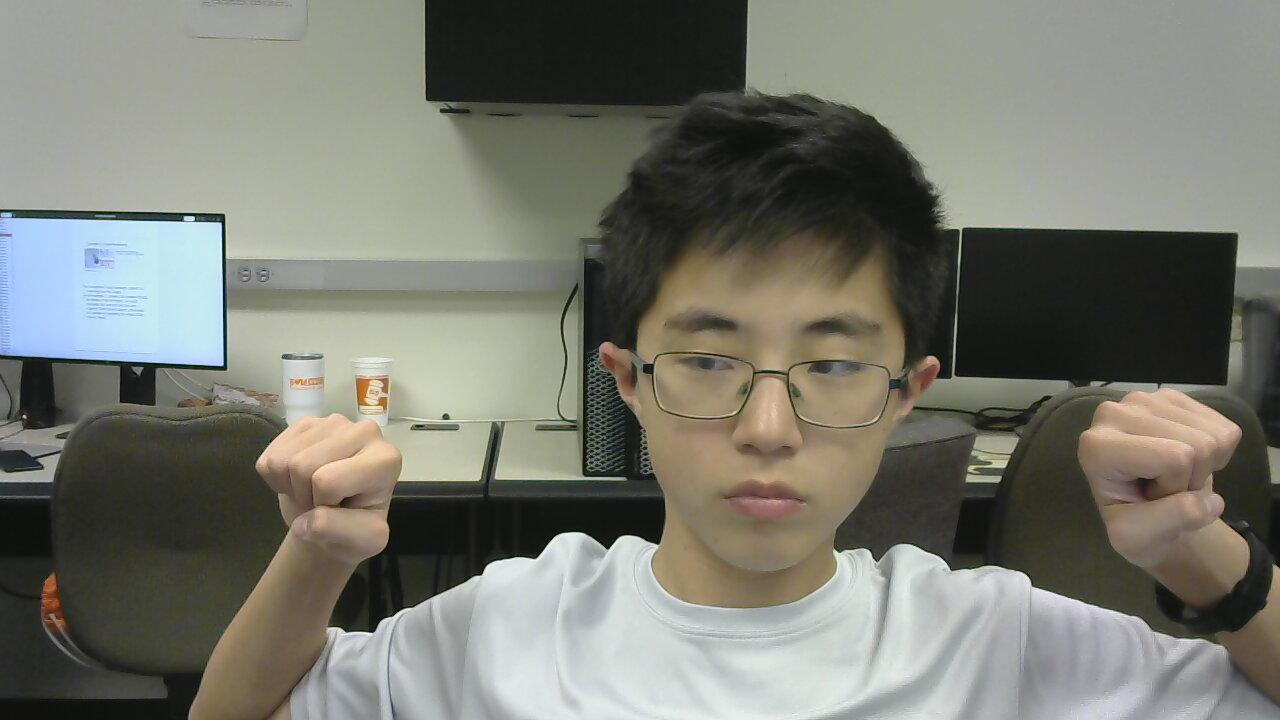fist: (246, 387, 406, 583)
